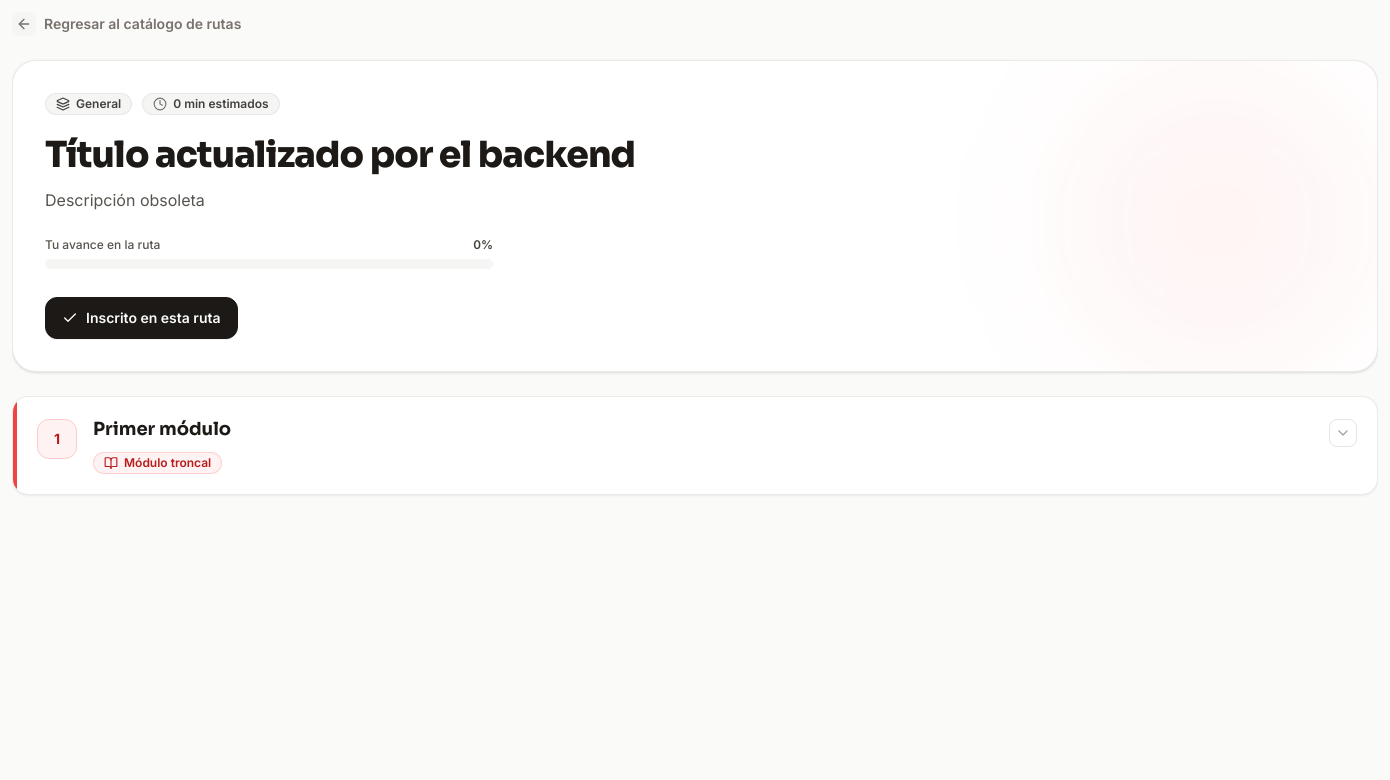
Test: RouteDetails — aislamiento y recursos abiertos › abrir un recurso lo registra, lo marca como visto y actualiza el avance
Later steps or results of the test are not shown.
Click the heading "Primer módulo": click(162, 429) left=93, top=418, right=231, bottom=440
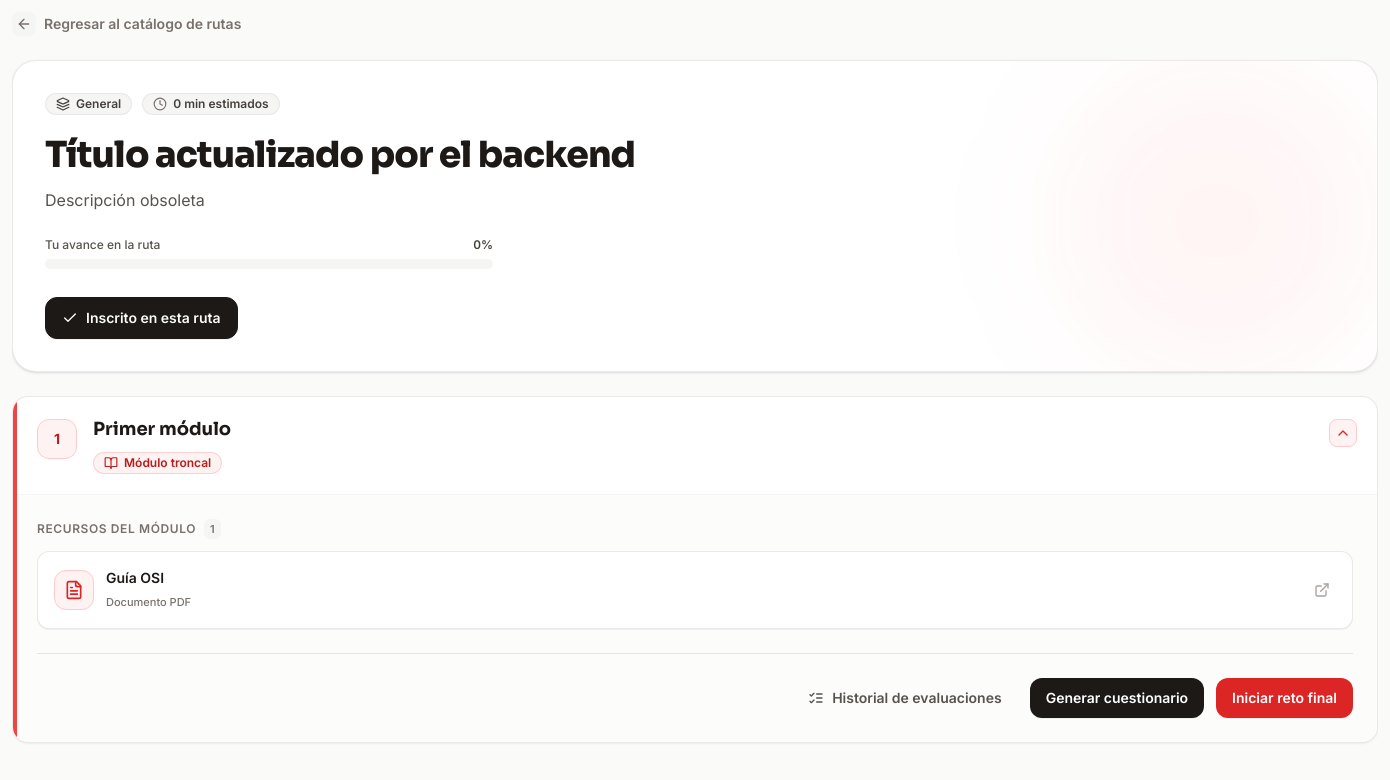
Click the link with aria-label "abrir el recurso: guía osi": click(74, 590) left=37, top=551, right=1353, bottom=629
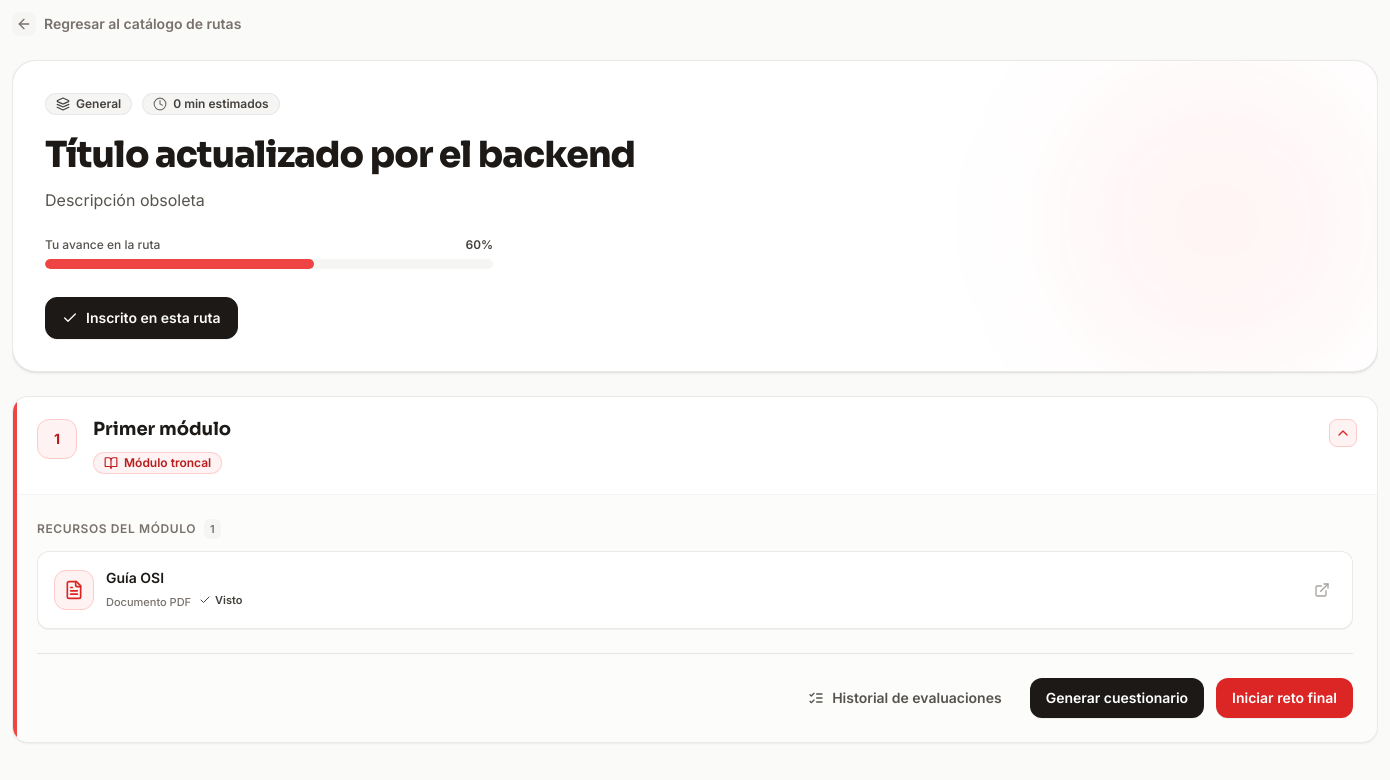
Expected: the text "Visto" is shown, left=199, top=592, right=242, bottom=608
Expected: the text "60%" is shown, left=465, top=237, right=493, bottom=253
